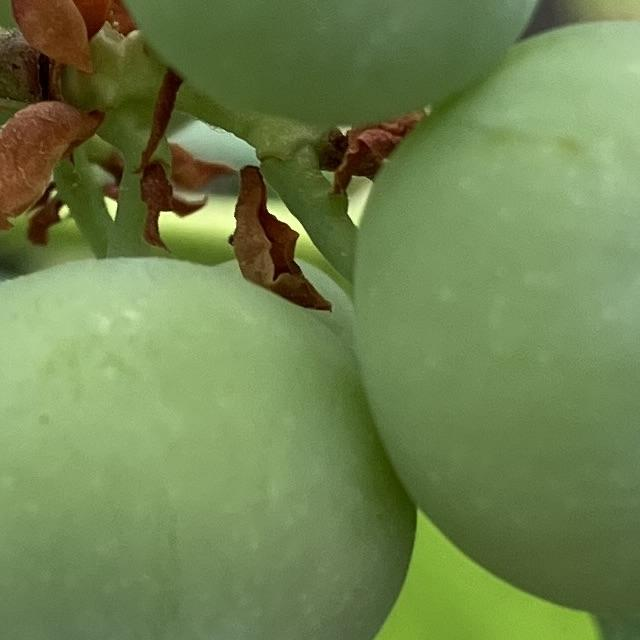Blueberries: (345, 12, 640, 625), (0, 248, 425, 640), (78, 0, 579, 134)
